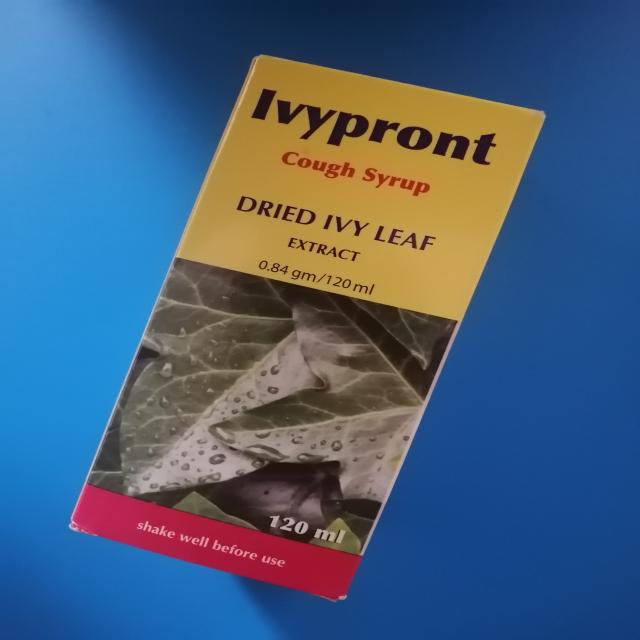Medicine: (64, 51, 547, 601)
